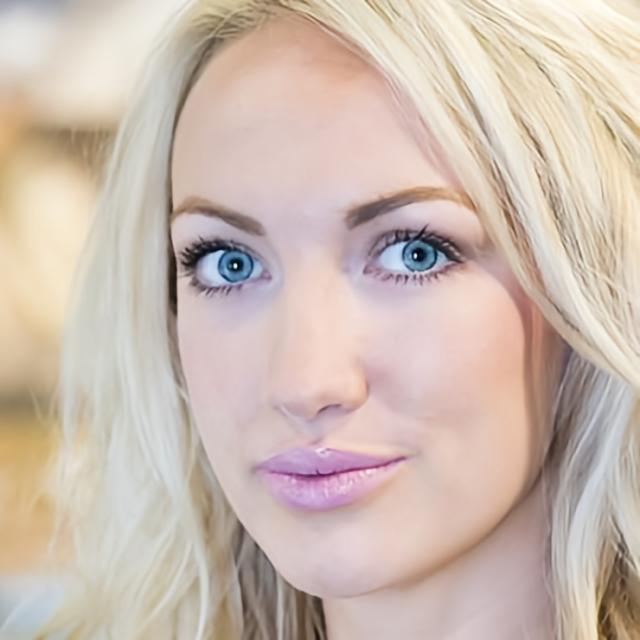surprise: (168, 6, 571, 600)
